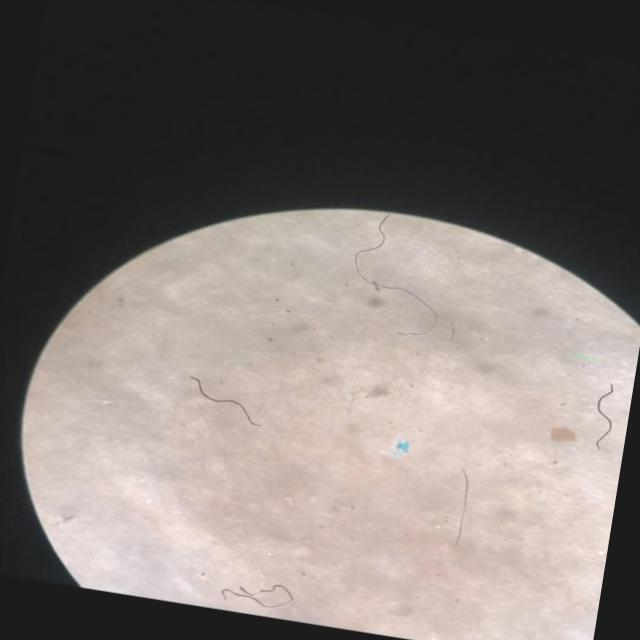fiber: (354, 213, 436, 319), (191, 378, 255, 426), (222, 583, 291, 608), (596, 384, 614, 447)
film: (392, 440, 409, 457)
fragment: (551, 428, 575, 441)
pellet: (146, 498, 152, 504)
